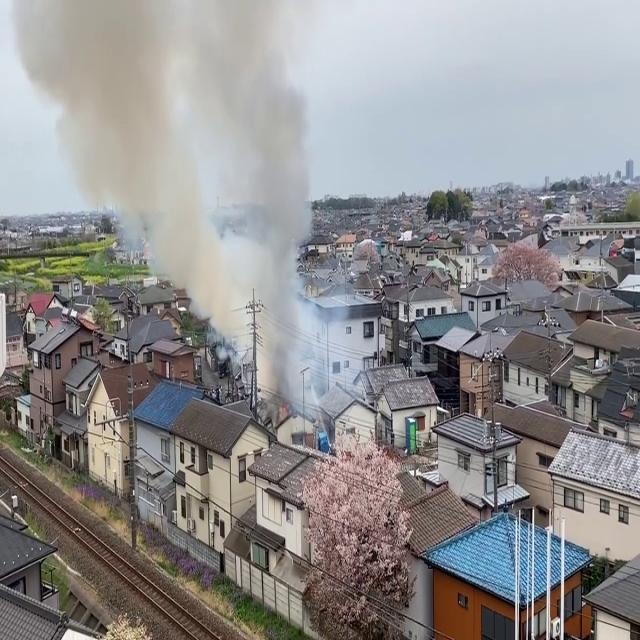Smoke: (7, 0, 335, 404)
